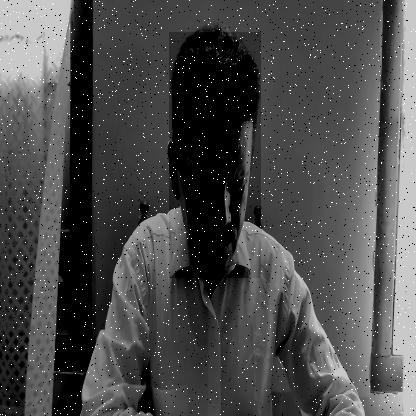Normal: (169, 32, 261, 278)
